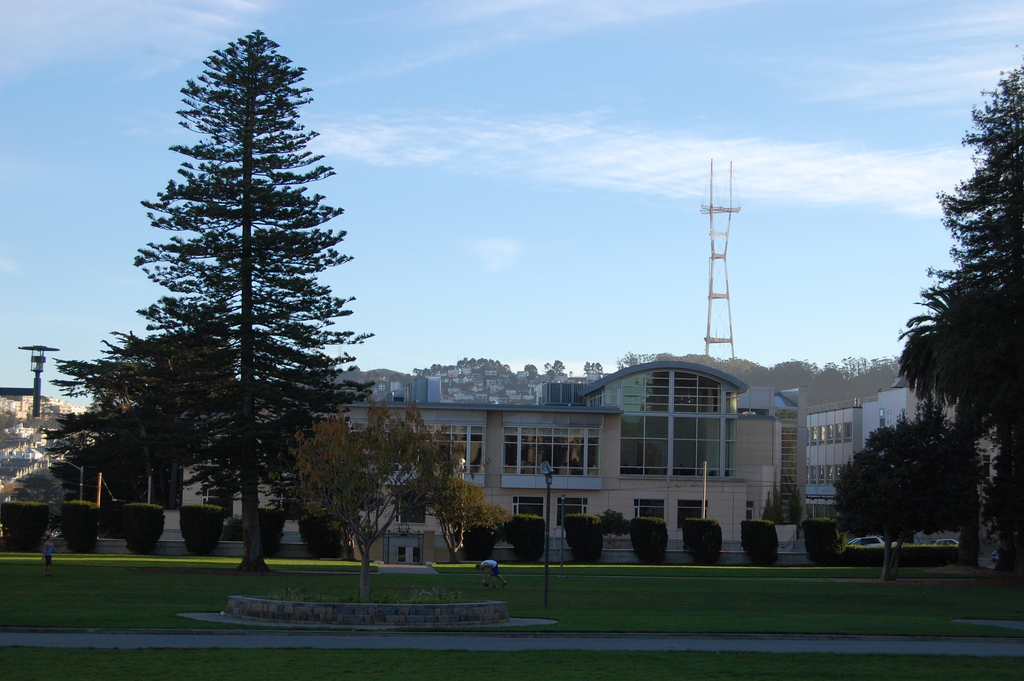Tree: (57, 60, 375, 566), (890, 45, 1023, 574), (286, 396, 515, 600), (814, 416, 991, 588), (40, 328, 206, 497), (692, 351, 827, 390), (405, 352, 522, 379), (817, 358, 908, 390), (545, 354, 577, 381), (616, 351, 687, 362), (522, 362, 542, 381)
